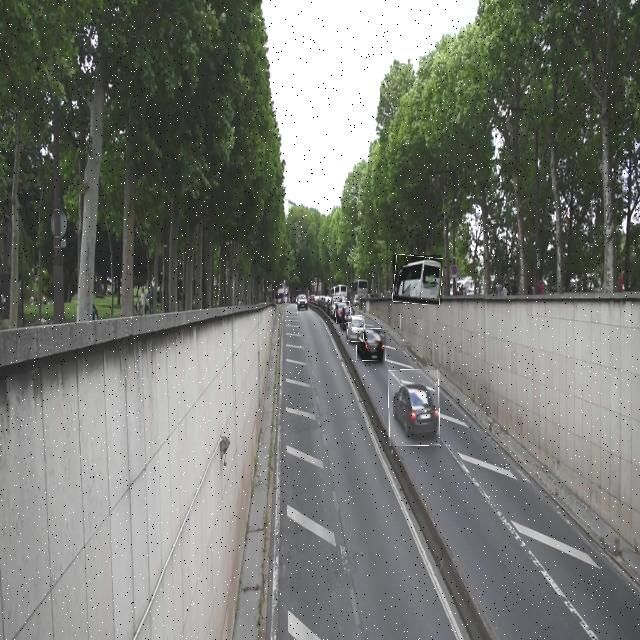Bus: (393, 255, 442, 304)
Car: (388, 370, 440, 446), (357, 329, 386, 361), (348, 316, 364, 342), (334, 302, 350, 323), (297, 290, 309, 314)
